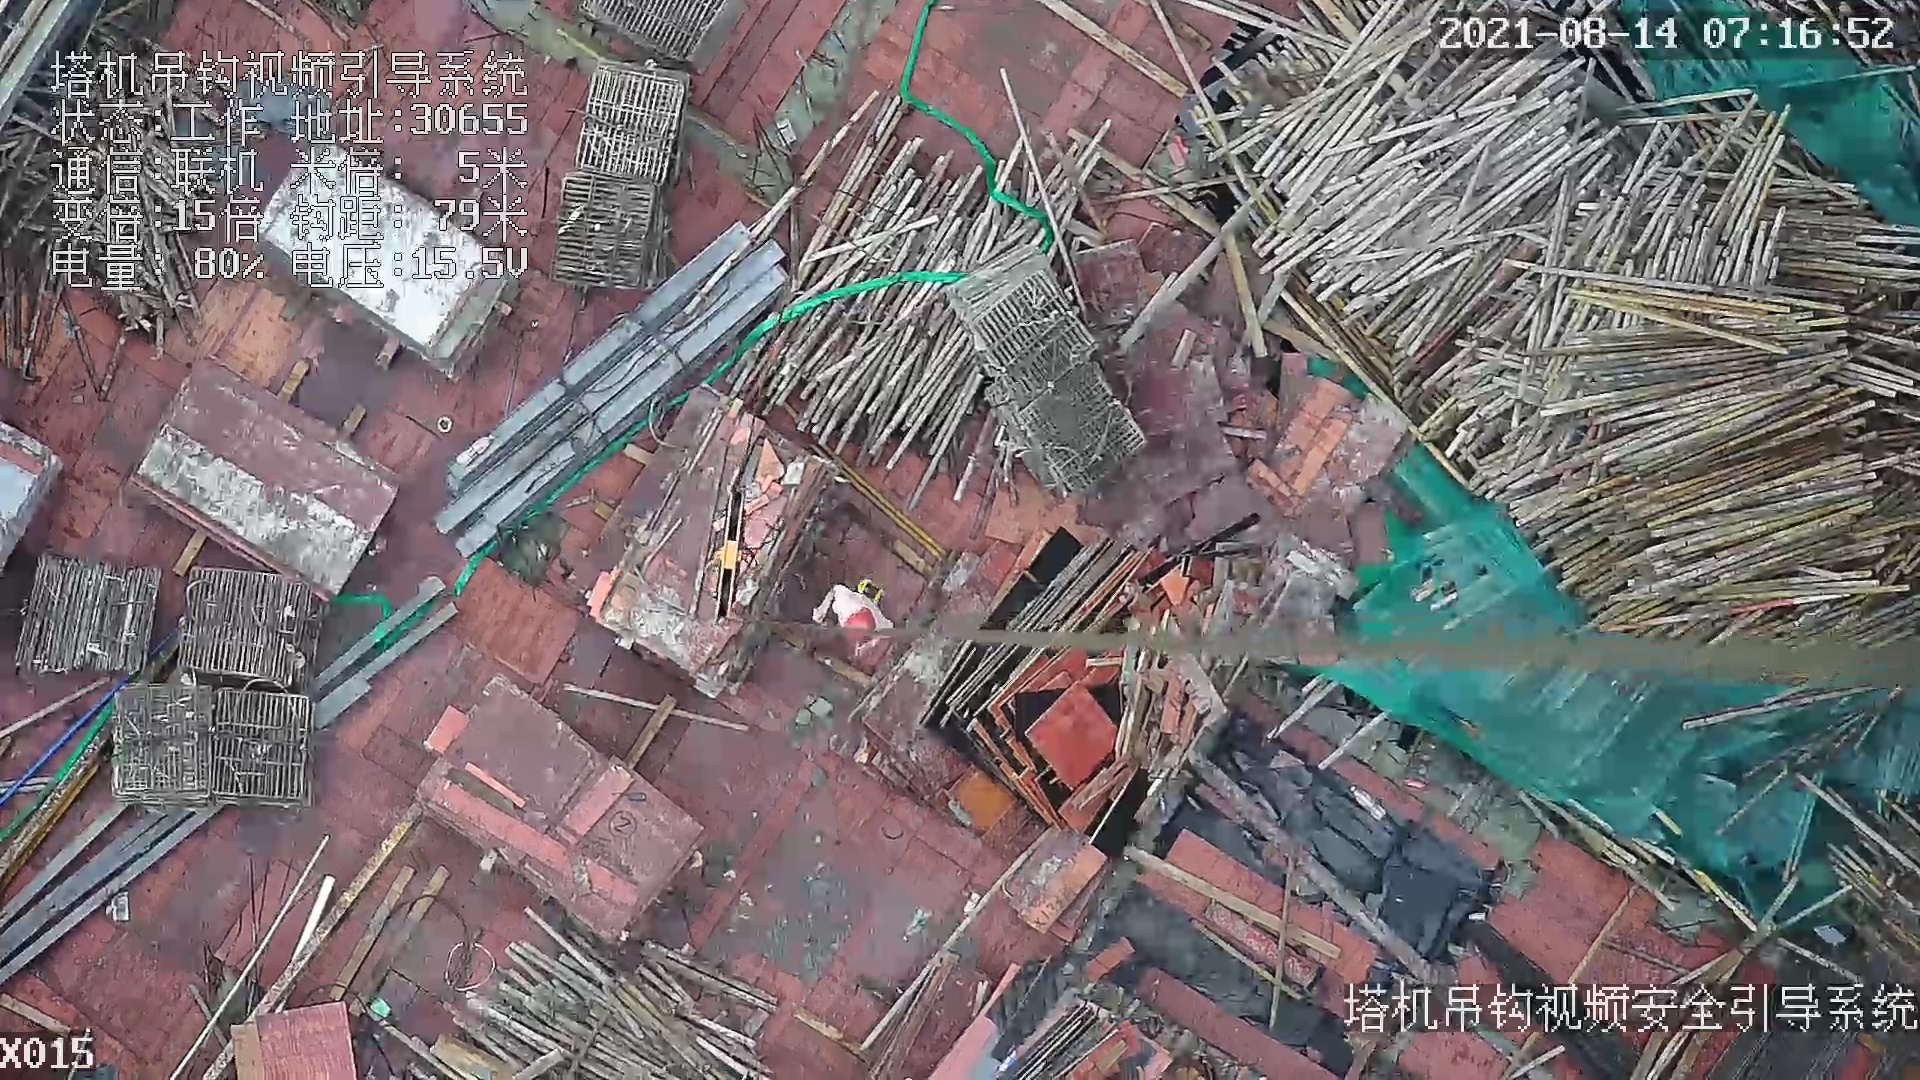helmet: (845, 606, 880, 637)
hook: (714, 491, 749, 633)
person: (819, 568, 908, 660)
